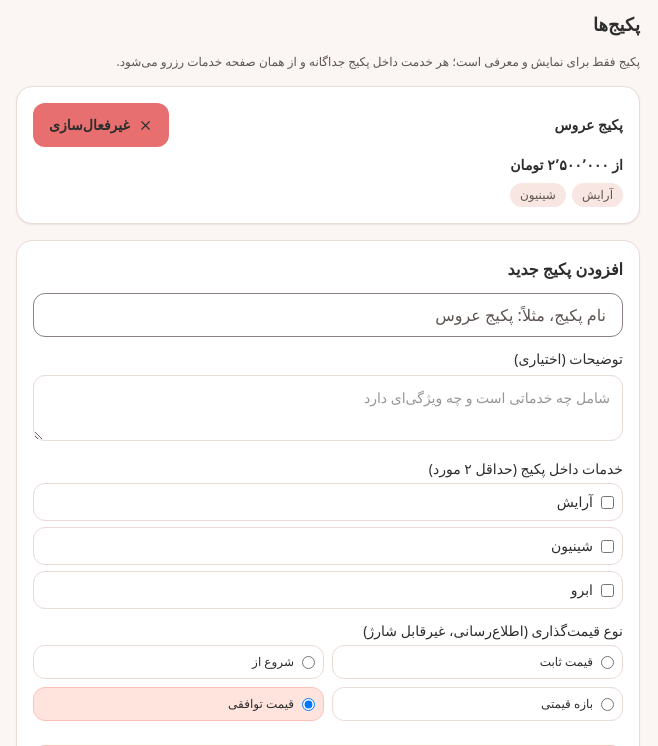
it: PackagesView › archives a package after confirmation
Click the button with test id "archive-package".
click(101, 125)  # box [33,103,169,147]
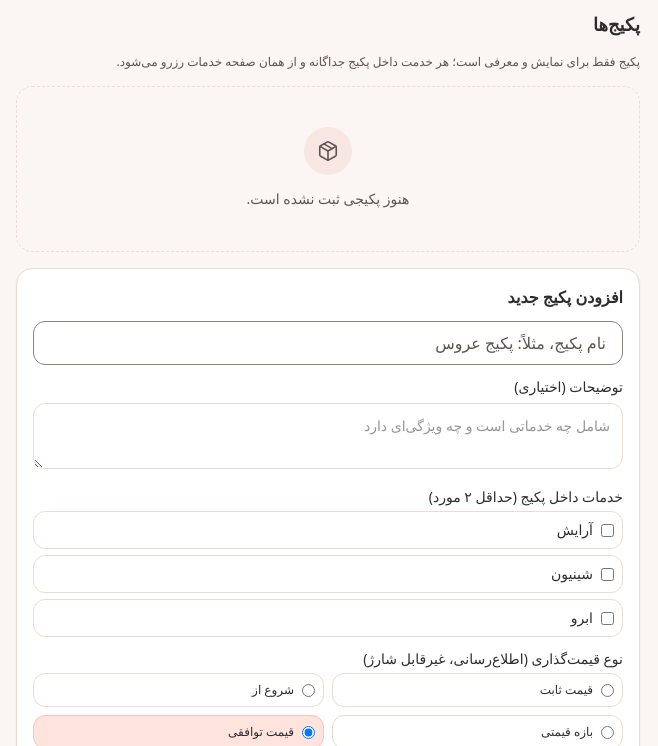
Expected: the text "پکیج عروس" is gone
